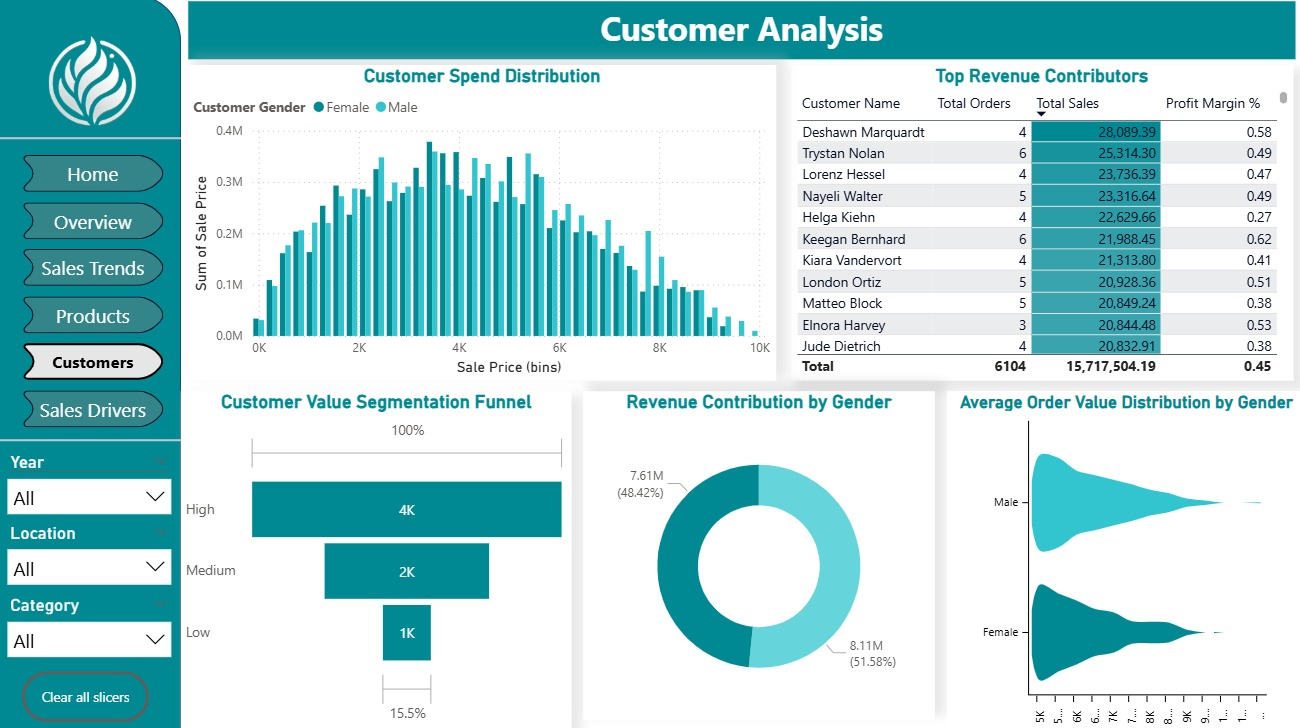

The page's visual inventory and layout, read from the dashboard file:
{"tool":"powerbi","page":{"name":"Customers","canvas":[1280,720],"ordinal":5},"visuals":[{"type":"shape","box":[0,0,180,720],"z":0},{"type":"actionButton","box":[725.7,312.4,304,63.8],"z":1000},{"type":"textbox","box":[187.3,5.9,1082.9,57.1],"z":2000},{"type":"tableEx","title":"Top Revenue Contributors","fields":{"Values":["DimCustomer.Customer Name","FactSales.Total Orders","FactSales.Total Sales","FactSales.Profit Margin %"]},"box":[777.1,68.8,491.7,308.8],"z":3000},{"type":"funnel","title":"Customer Value Segmentation Funnel","fields":{"Category":["FactSales.Order Value Category"],"Y":["FactSales.Total Orders"]},"box":[180,387.8,382,330.7],"z":4000},{"type":"donutChart","title":"Revenue Contribution by Gender","fields":{"Category":["DimCustomer.Customer Gender"],"Y":["FactSales.Total Sales"]},"box":[573.7,387.8,343.9,322],"z":5000},{"type":"clusteredColumnChart","title":"Customer Spend Distribution","fields":{"Category":["FactSales.Sale Price (bins)"],"Y":["Sum(FactSales.Sale Price)"],"Series":["DimCustomer.Customer Gender"]},"box":[187.3,68.8,575.1,308.8],"z":6000},{"type":"violinPlotE9D8F40178B24B089983CF53D41F6EC7","title":"Average Order Value Distribution by Gender","fields":{"category":["DimCustomer.Customer Gender"],"measure":["FactSales.Average Order Value"],"sampling":["FactSales.Sale Price"]},"box":[929.3,387.8,351.2,332.2],"z":7000},{"type":"pageNavigator","box":[20.5,156.6,146.3,267.8],"z":8000},{"type":"shape","box":[0,427.3,180,17.6],"z":9000},{"type":"shape","box":[0,128.8,180,23.4],"z":10000},{"type":"slicer","fields":{"Values":["E-Commerce Dataset.Order Year"]},"box":[0,442,180,71.7],"z":11000},{"type":"slicer","fields":{"Values":["FactSales.Country"]},"box":[0,510.7,180,80.5],"z":12000},{"type":"slicer","fields":{"Values":["E-Commerce Dataset.Product Category"]},"box":[0,582.4,180,80.5],"z":13000},{"type":"image","box":[39.5,22,102.4,99.5],"z":14000},{"type":"actionButton","box":[24.9,661.5,124.4,49.8],"z":15000}]}

Visuals, with their boxes in screenshot pixels (x1, y1, x2, y2), scaled from the page's 1280x720 canvas onto the 1300x728 screenshot:
shape: left=0, top=0, right=183, bottom=727
actionButton: left=737, top=316, right=1046, bottom=380
textbox: left=190, top=6, right=1290, bottom=64
"Top Revenue Contributors" tableEx: left=789, top=70, right=1289, bottom=382
"Customer Value Segmentation Funnel" funnel: left=183, top=392, right=571, bottom=726
"Revenue Contribution by Gender" donutChart: left=583, top=392, right=932, bottom=718
"Customer Spend Distribution" clusteredColumnChart: left=190, top=70, right=774, bottom=382
"Average Order Value Distribution by Gender" violinPlotE9D8F40178B24B089983CF53D41F6EC7: left=944, top=392, right=1299, bottom=727
pageNavigator: left=21, top=158, right=169, bottom=429
shape: left=0, top=432, right=183, bottom=450
shape: left=0, top=130, right=183, bottom=154
slicer - E-Commerce Dataset.Order Year: left=0, top=447, right=183, bottom=519
slicer - FactSales.Country: left=0, top=516, right=183, bottom=598
slicer - E-Commerce Dataset.Product Category: left=0, top=589, right=183, bottom=670
image: left=40, top=22, right=144, bottom=123
actionButton: left=25, top=669, right=152, bottom=719
